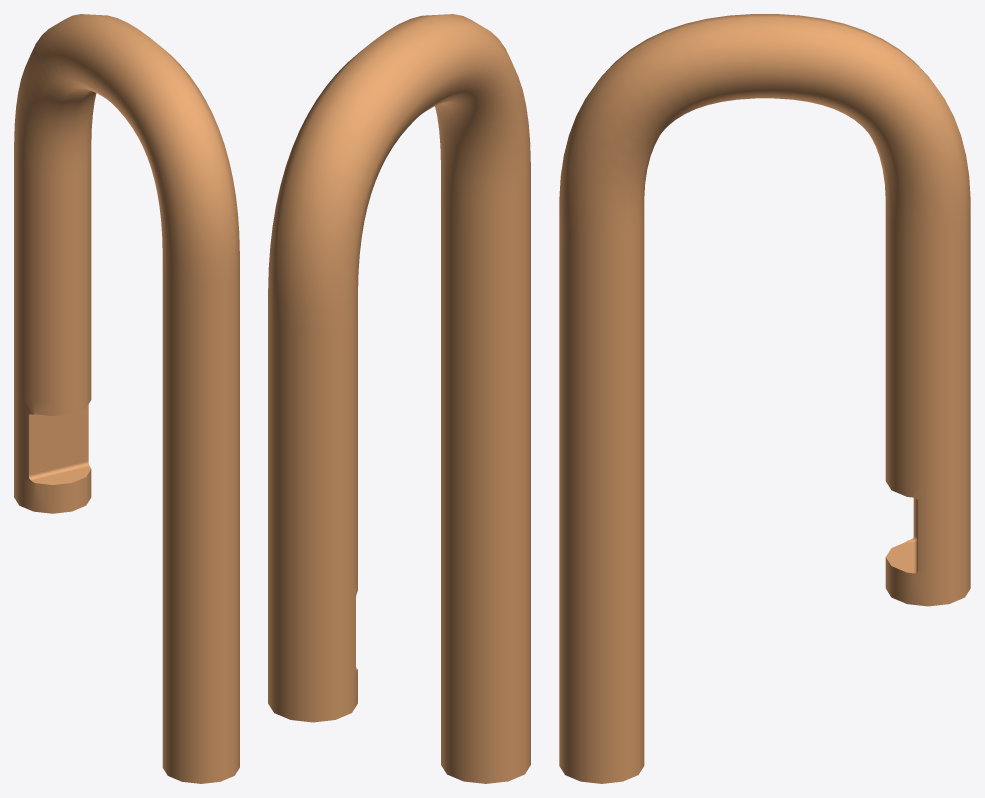
Rendered from Chain.fbx.
The picture shows the model from 3 angles, left to right: view 1: azimuth 30°, elevation 25°; view 2: azimuth 150°, elevation 25°; view 3: azimuth 270°, elevation 25°; orthographic projection. The views are drawn at different scales.
Visible parts, largest first — view 1: Lock; view 2: Lock; view 3: Lock.
Boxes of the visible parts, x1=… form: Lock: x1=14, y1=14, x2=239, y2=783; Lock: x1=268, y1=14, x2=530, y2=783; Lock: x1=559, y1=14, x2=970, y2=783.
Bounding box in the file's own units: 26 × 253 × 126.
